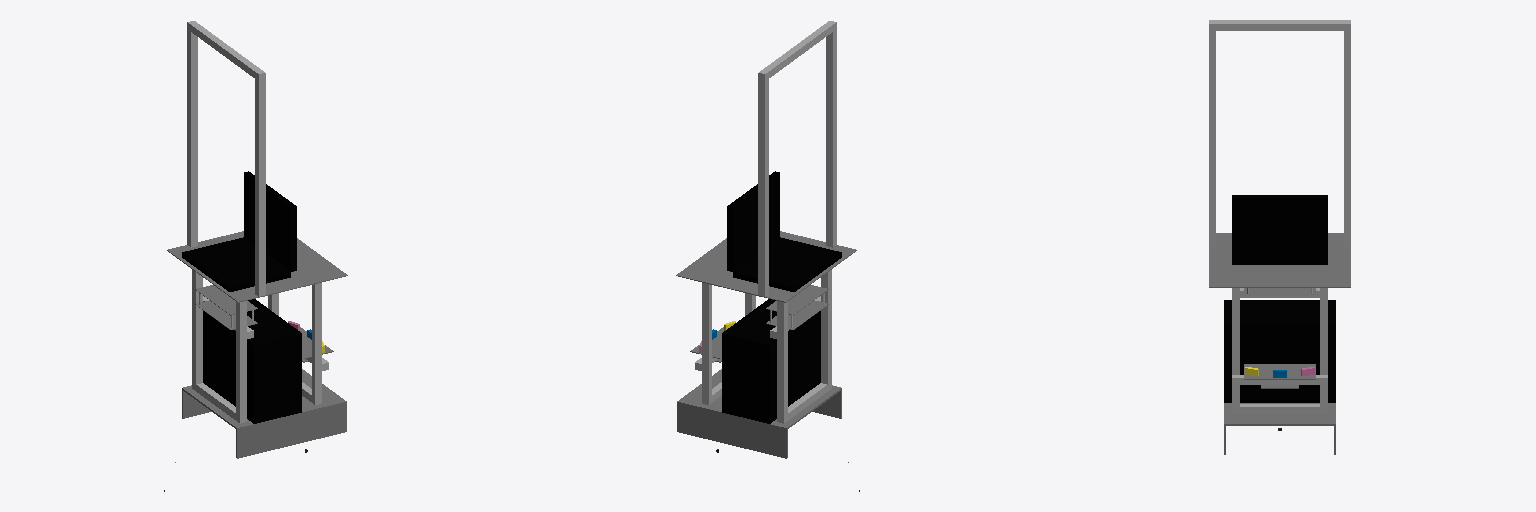
--- Render facts (derived) ---
Views: 3 orthographic renders of the robot side by side, from view 1: azimuth 30°, elevation 25°; view 2: azimuth 150°, elevation 25°; view 3: azimuth 270°, elevation 25°.
Robot: segbot — 67 links, 66 joints (4 revolute, 8 continuous, 54 fixed); root link base_footprint; default pose: every joint at zero.
Visible links, largest first — view 1: battery_box_link, chassis_right_plate_link, laptop_link, laptop_screen_link, laptop_base_plate_link, right_sensor_beam_link, left_sensor_beam_link, chassis_base_plate_link, back_right_vertical_beam_link, front_right_vertical_beam_link, back_left_vertical_beam_link, top_sensor_beam_link (+3 smaller); view 2: battery_box_link, chassis_left_plate_link, laptop_link, laptop_screen_link, laptop_base_plate_link, left_sensor_beam_link, right_sensor_beam_link, chassis_base_plate_link, back_left_vertical_beam_link, front_left_vertical_beam_link, back_right_vertical_beam_link, top_sensor_beam_link (+3 smaller); view 3: battery_box_link, laptop_screen_link, laptop_base_plate_link, chassis_base_plate_link, top_sensor_beam_link, left_sensor_beam_link, right_sensor_beam_link, front_base_beam_link, front_left_vertical_beam_link, front_right_vertical_beam_link, sensor_plate_link, hokuyo_sonar_sensor_beam_link (+1 smaller).
Link boxes in pixels (x1,y1,x2,y2): battery_box_link: [203, 299, 301, 423]; chassis_right_plate_link: [236, 403, 346, 458]; laptop_link: [182, 237, 290, 291]; laptop_screen_link: [244, 171, 296, 271]; laptop_base_plate_link: [167, 231, 347, 302]; right_sensor_beam_link: [255, 79, 265, 296]; left_sensor_beam_link: [187, 29, 197, 247]; chassis_base_plate_link: [182, 369, 346, 429]; back_right_vertical_beam_link: [236, 301, 246, 419]; front_right_vertical_beam_link: [312, 283, 321, 397]; back_left_vertical_beam_link: [192, 270, 202, 387]; top_sensor_beam_link: [187, 21, 265, 80]; battery_box_link: [722, 299, 820, 423]; chassis_left_plate_link: [677, 403, 787, 458]; laptop_link: [733, 237, 841, 291]; laptop_screen_link: [727, 171, 779, 271]; laptop_base_plate_link: [676, 231, 856, 302]; left_sensor_beam_link: [758, 79, 768, 296]; right_sensor_beam_link: [826, 29, 836, 247]; chassis_base_plate_link: [677, 369, 841, 429]; back_left_vertical_beam_link: [777, 301, 787, 419]; front_left_vertical_beam_link: [702, 283, 711, 397]; back_right_vertical_beam_link: [821, 270, 831, 387]; top_sensor_beam_link: [758, 21, 836, 80]; battery_box_link: [1224, 300, 1335, 402]; laptop_screen_link: [1232, 195, 1327, 261]; laptop_base_plate_link: [1209, 233, 1350, 287]; chassis_base_plate_link: [1224, 403, 1335, 425]; top_sensor_beam_link: [1209, 20, 1350, 30]; left_sensor_beam_link: [1344, 31, 1350, 246]; right_sensor_beam_link: [1209, 31, 1215, 246]; front_base_beam_link: [1232, 404, 1327, 413]; front_left_vertical_beam_link: [1320, 288, 1327, 406]; front_right_vertical_beam_link: [1232, 288, 1239, 406]; sensor_plate_link: [1244, 364, 1315, 379]; hokuyo_sonar_sensor_beam_link: [1232, 375, 1327, 384].
Size in the robot's own frame: 0.574 by 0.5403 by 1.59 metres.
5 mesh visuals loaded from 16 distinct referenced files (5 Collada DAE); not drawn: 12 (reference not matched to a file when rendering).

The robot description file, URDF, robot "segbot":
<?xml version="1.0" ?>
<!-- =================================================================================== -->
<!-- |    This document was autogenerated by xacro from segbot_v2.arm.urdf.xacro       | -->
<!-- |    EDITING THIS FILE BY HAND IS NOT RECOMMENDED                                 | -->
<!-- =================================================================================== -->
<robot name="segbot" xmlns:body="http://playerstage.sourceforge.net/gazebo/xmlschema/#body" xmlns:controller="http://playerstage.sourceforge.net/gazebo/xmlschema/#controller" xmlns:gazebo="http://playerstage.sourceforge.net/gazebo/xmlschema/#gz" xmlns:geom="http://playerstage.sourceforge.net/gazebo/xmlschema/#geom" xmlns:interface="http://playerstage.sourceforge.net/gazebo/xmlschema/#interface" xmlns:joint="http://playerstage.sourceforge.net/gazebo/xmlschema/#joint" xmlns:model="http://playerstage.sourceforge.net/gazebo/xmlschema/#model" xmlns:physics="http://playerstage.sourceforge.net/gazebo/xmlschema/#physics" xmlns:renderable="http://playerstage.sourceforge.net/gazebo/xmlschema/#renderable" xmlns:rendering="http://playerstage.sourceforge.net/gazebo/xmlschema/#rendering" xmlns:sensor="http://playerstage.sourceforge.net/gazebo/xmlschema/#sensor" xmlns:xacro="http://ros.org/wiki/xacro" xmlns:xi="http://www.w3.org/2001/XInclude">
  <!-- Included URDF Files -->
  <material name="light_grey">
    <color rgba="0.7 0.7 0.7 1"/>
  </material>
  <material name="dark_grey">
    <color rgba="0.5 0.5 0.5 1"/>
  </material>
  <material name="black">
    <color rgba="0 0 0 1"/>
  </material>
  <material name="almost_black">
    <color rgba="0.02 0.02 0.02 1"/>
  </material>
  <!-- Add the segbot base -->
  <link name="base_footprint">
    <visual>
      <origin rpy="0 0 0" xyz="0 0 0"/>
      <geometry>
        <box size="0.001 0.001 0.001"/>
      </geometry>
    </visual>
  </link>
  <joint name="base_footprint_joint" type="fixed">
    <origin rpy="0 0 0" xyz="0.0 0 0.2165"/>
    <parent link="base_footprint"/>
    <child link="base_link"/>
  </joint>
  <link name="base_link">
    <inertial>
      <mass value="30"/>
      <origin xyz="0 0 -0.2165"/>
      <inertia ixx="3000.0" ixy="0.0" ixz="0.0" iyy="3000.0" iyz="0.0" izz="30.0"/>
    </inertial>
    <visual>
      <origin rpy="0 0 0" xyz="0 0 0"/>
      <geometry>
        <mesh filename="package://segbot_description/meshes/rmp50-base-link.dae" scale="0.0254 0.0254 0.0254"/>
      </geometry>
    </visual>
    <collision>
      <origin rpy="0 0 0" xyz="0 0 -0.05"/>
      <geometry>
        <cylinder length="0.3330" radius="0.305"/>
      </geometry>
    </collision>
  </link>
  <joint name="laser_obstacle_joint" type="fixed">
    <origin rpy="0 0 0" xyz="0.0 0 0.3165"/>
    <parent link="base_link"/>
    <child link="laser_obstacle"/>
  </joint>
  <link name="laser_obstacle">
    <inertial>
      <mass value="0.1"/>
      <origin rpy="0 0 0" xyz="0 0 0"/>
      <inertia ixx="0.01" ixy="0.0" ixz="0.0" iyy="0.01" iyz="0.0" izz="0.01"/>
    </inertial>
    <visual>
      <origin rpy="0 0 0" xyz="0 0 0"/>
      <geometry>
        <box size="0.001 0.001 0.001"/>
      </geometry>
    </visual>
    <collision>
      <origin rpy="0 0 0" xyz="0 0 0"/>
      <geometry>
        <box size="0.25 0.6 0.4"/>
      </geometry>
    </collision>
  </link>
  <gazebo reference="base_link">
    <mu1 value="100.0"/>
    <mu2 value="100.0"/>
    <kp value="1000000.0"/>
    <kd value="1.0"/>
  </gazebo>
  <joint name="base_caster_support_joint" type="continuous">
    <origin rpy="0 0 0" xyz="-0.3292 0 -0.0485"/>
    <parent link="base_link"/>
    <child link="base_caster_support_link"/>
    <axis xyz="0 0 1"/>
    <anchor xyz="0.01 0 0"/>
    <limit effort="100" k_velocity="0" velocity="100"/>
    <joint_properties damping="0.0" friction="0.0"/>
  </joint>
  <transmission name="base_caster_support_trans" type="pr2_mechanism_model/SimpleTransmission">
    <actuator name="base_caster_support_motor"/>
    <joint name="base_caster_support_joint"/>
    <mechanicalReduction>1.0</mechanicalReduction>
  </transmission>
  <link name="base_caster_support_link">
    <inertial>
      <mass value="1"/>
      <origin xyz="0 0 0"/>
      <inertia ixx="0.00375" ixy="0.0" ixz="0.0" iyy="0.00375" iyz="0.0" izz="0.00375"/>
    </inertial>
    <visual>
      <origin rpy="0 0 0" xyz="0 0 0"/>
      <geometry>
        <mesh filename="package://segbot_description/meshes/rmp50-castor-link.dae" scale="0.0254 0.0254 0.0254"/>
      </geometry>
    </visual>
  </link>
  <gazebo reference="base_caster_support_link">
    <mu1 value="100.0"/>
    <mu2 value="100.0"/>
    <kp value="1000000.0"/>
    <kd value="1.0"/>
  </gazebo>
  <joint name="caster_wheel_joint" type="continuous">
    <origin rpy="0 0 0" xyz="-0.0397 0 -0.0918"/>
    <parent link="base_caster_support_link"/>
    <child link="caster_wheel_link"/>
    <axis xyz="0 1 0"/>
    <anchor xyz="0 0 0"/>
    <limit effort="100" k_velocity="0" velocity="100"/>
    <joint_properties damping="0.0" friction="0.0"/>
  </joint>
  <transmission name="caster_wheel_trans" type="pr2_mechanism_model/SimpleTransmission">
    <actuator name="caster_wheel_motor"/>
    <joint name="caster_wheel_joint"/>
    <mechanicalReduction>1.0</mechanicalReduction>
  </transmission>
  <link name="caster_wheel_link">
    <inertial>
      <mass value="2"/>
      <origin rpy="0 0 0" xyz="0 0 0"/>
      <inertia ixx="0.003" ixy="0.0" ixz="0.0" iyy="0.00581" iyz="0.0" izz="0.003"/>
    </inertial>
    <visual>
      <origin rpy="0 0 0" xyz="0 0 0"/>
      <geometry>
        <mesh filename="package://segbot_description/meshes/rmp50-castor-wheel.dae" scale="0.0254 0.0254 0.0254"/>
      </geometry>
    </visual>
  </link>
  <gazebo reference="caster_wheel_link">
    <mu1 value="10.0"/>
    <mu2 value="10.0"/>
    <kp value="1000000.0"/>
    <kd value="1.0"/>
  </gazebo>
  <joint name="base_link_left_wheel_joint" type="continuous">
    <origin rpy="0 0 0" xyz="0 0.2689 0.0239"/>
    <axis xyz="0 1 0"/>
    <anchor xyz="0 0 0"/>
    <limit effort="100" velocity="100"/>
    <joint_properties damping="0.0" friction="0.0"/>
    <parent link="base_link"/>
    <child link="base_link_left_wheel_link"/>
  </joint>
  <link name="base_link_left_wheel_link">
    <inertial>
      <mass value="5"/>
      <origin xyz=" 0 0 0 "/>
      <inertia ixx="0.076" ixy="0.0" ixz="0.0" iyy="0.144" iyz="0.0" izz="0.076"/>
    </inertial>
    <visual>
      <origin rpy="0 0 0" xyz="0 0 0"/>
      <geometry>
        <mesh filename="package://segbot_description/meshes/rmp50-left-wheel.dae" scale="0.0254 0.0254 0.0254"/>
      </geometry>
    </visual>
  </link>
  <gazebo reference="base_link_left_wheel_link">
    <mu1 value="10.0"/>
    <mu2 value="10.0"/>
    <kp value="1000000.0"/>
    <kd value="1.0"/>
  </gazebo>
  <transmission name="base_link_left_wheel_trans" type="pr2_mechanism_model/SimpleTransmission">
    <actuator name="base_link_left_wheel_motor"/>
    <joint name="base_link_left_wheel_joint"/>
    <mechanicalReduction>1.0</mechanicalReduction>
  </transmission>
  <joint name="base_link_right_wheel_joint" type="continuous">
    <origin rpy="0 0 0" xyz="0 -0.2689 0.0239"/>
    <axis xyz="0 1 0"/>
    <anchor xyz="0 0 0"/>
    <limit effort="100" velocity="100"/>
    <joint_properties damping="0.0" friction="0.0"/>
    <parent link="base_link"/>
    <child link="base_link_right_wheel_link"/>
  </joint>
  <link name="base_link_right_wheel_link">
    <inertial>
      <mass value="5"/>
      <origin xyz=" 0 0 0 "/>
      <inertia ixx="0.076" ixy="0.0" ixz="0.0" iyy="0.144" iyz="0.0" izz="0.076"/>
    </inertial>
    <visual>
      <origin rpy="0 0 0" xyz="0 0 0"/>
      <geometry>
        <mesh filename="package://segbot_description/meshes/rmp50-right-wheel.dae" scale="0.0254 0.0254 0.0254"/>
      </geometry>
    </visual>
  </link>
  <gazebo reference="base_link_right_wheel_link">
    <mu1 value="10.0"/>
    <mu2 value="10.0"/>
    <kp value="1000000.0"/>
    <kd value="1.0"/>
  </gazebo>
  <transmission name="base_link_right_wheel_trans" type="pr2_mechanism_model/SimpleTransmission">
    <actuator name="base_link_right_wheel_motor"/>
    <joint name="base_link_right_wheel_joint"/>
    <mechanicalReduction>1.0</mechanicalReduction>
  </transmission>
  <joint name="chassis_base_plate_joint" type="fixed">
    <origin xyz="0.0 0 0.10795"/>
    <parent link="base_link"/>
    <child link="chassis_base_plate_link"/>
  </joint>
  <link name="chassis_base_plate_link">
    <inertial>
      <mass value="0.1"/>
      <origin rpy="0 0 0" xyz="0 0 0"/>
      <inertia ixx="0.01" ixy="0.0" ixz="0.0" iyy="0.01" iyz="0.0" izz="0.01"/>
    </inertial>
    <visual>
      <origin rpy="0 0 0" xyz="0 0 0.003175"/>
      <geometry>
        <box size="0.4064 0.3556 0.00635"/>
      </geometry>
      <material name="dark_grey"/>
    </visual>
  </link>
  <gazebo reference="chassis_base_plate_link">
    <material>Gazebo/Grey</material>
    <mu1 value="100.0"/>
    <mu2 value="100.0"/>
    <kp value="1000000.0"/>
    <kd value="1.0"/>
  </gazebo>
  <joint name="chassis_left_plate_joint" type="fixed">
    <origin rpy="-1.5707963268 0 0" xyz="0 0.17145 -0.0508"/>
    <parent link="chassis_base_plate_link"/>
    <child link="chassis_left_plate_link"/>
  </joint>
  <link name="chassis_left_plate_link">
    <inertial>
      <mass value="0.1"/>
      <origin rpy="0 0 0" xyz="0 0 0"/>
      <inertia ixx="0.01" ixy="0.0" ixz="0.0" iyy="0.01" iyz="0.0" izz="0.01"/>
    </inertial>
    <visual>
      <origin rpy="0 0 0" xyz="0 0 0.003175"/>
      <geometry>
        <box size="0.4064 0.1016 0.00635"/>
      </geometry>
      <material name="dark_grey"/>
    </visual>
  </link>
  <gazebo reference="chassis_left_plate_link">
    <material>Gazebo/Grey</material>
    <mu1 value="100.0"/>
    <mu2 value="100.0"/>
    <kp value="1000000.0"/>
    <kd value="1.0"/>
  </gazebo>
  <joint name="chassis_right_plate_joint" type="fixed">
    <origin rpy="+1.5707963268 0 0" xyz="0 -0.17145 -0.0508"/>
    <parent link="chassis_base_plate_link"/>
    <child link="chassis_right_plate_link"/>
  </joint>
  <link name="chassis_right_plate_link">
    <inertial>
      <mass value="0.1"/>
      <origin rpy="0 0 0" xyz="0 0 0"/>
      <inertia ixx="0.01" ixy="0.0" ixz="0.0" iyy="0.01" iyz="0.0" izz="0.01"/>
    </inertial>
    <visual>
      <origin rpy="0 0 0" xyz="0 0 0.003175"/>
      <geometry>
        <box size="0.4064 0.1016 0.00635"/>
      </geometry>
      <material name="dark_grey"/>
    </visual>
  </link>
  <gazebo reference="chassis_right_plate_link">
    <material>Gazebo/Grey</material>
    <mu1 value="100.0"/>
    <mu2 value="100.0"/>
    <kp value="1000000.0"/>
    <kd value="1.0"/>
  </gazebo>
  <joint name="battery_box_joint" type="fixed">
    <origin rpy="0 0 0" xyz="-0.0508 0 0.00635"/>
    <parent link="chassis_base_plate_link"/>
    <child link="battery_box_link"/>
  </joint>
  <link name="battery_box_link">
    <inertial>
      <mass value="0.1"/>
      <origin rpy="0 0 0" xyz="0 0 0"/>
      <inertia ixx="0.01" ixy="0.0" ixz="0.0" iyy="0.01" iyz="0.0" izz="0.01"/>
    </inertial>
    <visual>
      <origin rpy="0 0 0" xyz="0 0 0.1397"/>
      <geometry>
        <box size="0.1778 0.3556 0.2794"/>
      </geometry>
      <material name="almost_black"/>
    </visual>
  </link>
  <gazebo reference="battery_box_link">
    <material>Gazebo/Black</material>
    <mu1 value="100.0"/>
    <mu2 value="100.0"/>
    <kp value="1000000.0"/>
    <kd value="1.0"/>
  </gazebo>
  <joint name="front_base_beam_joint" type="fixed">
    <origin rpy="1.5707963268 0 0" xyz="0.1143 0.1524 0.01905"/>
    <parent link="chassis_base_plate_link"/>
    <child link="front_base_beam_link"/>
  </joint>
  <link name="front_base_beam_link">
    <inertial>
      <mass value="0.1"/>
      <inertia ixx="0.01" ixy="0.0" ixz="0.0" iyy="0.01" iyz="0.0" izz="0.01"/>
    </inertial>
    <visual>
      <origin rpy="0 0 0" xyz="0 0 0.1524"/>
      <geometry>
        <box size="0.0254 0.0254 0.3048"/>
      </geometry>
      <material name="light_grey"/>
    </visual>
  </link>
  <gazebo reference="front_base_beam_link">
    <material>Gazebo/Grey</material>
    <mu1 value="100.0"/>
    <mu2 value="100.0"/>
    <kp value="1000000.0"/>
    <kd value="1.0"/>
  </gazebo>
  <joint name="back_base_beam_joint" type="fixed">
    <origin rpy="1.5707963268 0 0" xyz="-0.1651 0.1524 0.01905"/>
    <parent link="chassis_base_plate_link"/>
    <child link="back_base_beam_link"/>
  </joint>
  <link name="back_base_beam_link">
    <inertial>
      <mass value="0.1"/>
      <inertia ixx="0.01" ixy="0.0" ixz="0.0" iyy="0.01" iyz="0.0" izz="0.01"/>
    </inertial>
    <visual>
      <origin rpy="0 0 0" xyz="0 0 0.1524"/>
      <geometry>
        <box size="0.0254 0.0254 0.3048"/>
      </geometry>
      <material name="light_grey"/>
    </visual>
  </link>
  <gazebo reference="back_base_beam_link">
    <material>Gazebo/Grey</material>
    <mu1 value="100.0"/>
    <mu2 value="100.0"/>
    <kp value="1000000.0"/>
    <kd value="1.0"/>
  </gazebo>
  <joint name="back_left_vertical_beam_joint" type="fixed">
    <origin rpy="-1.5707963268 0 0" xyz="0 0 0.0127"/>
    <parent link="back_base_beam_link"/>
    <child link="back_left_vertical_beam_link"/>
  </joint>
  <link name="back_left_vertical_beam_link">
    <inertial>
      <mass value="0.1"/>
      <inertia ixx="0.01" ixy="0.0" ixz="0.0" iyy="0.01" iyz="0.0" izz="0.01"/>
    </inertial>
    <visual>
      <origin rpy="0 0 0" xyz="0 0 0.2286"/>
      <geometry>
        <box size="0.0254 0.0254 0.4572"/>
      </geometry>
      <material name="light_grey"/>
    </visual>
  </link>
  <gazebo reference="back_left_vertical_beam_link">
    <material>Gazebo/Grey</material>
    <mu1 value="100.0"/>
    <mu2 value="100.0"/>
    <kp value="1000000.0"/>
    <kd value="1.0"/>
  </gazebo>
  <joint name="front_left_vertical_beam_joint" type="fixed">
    <origin rpy="-1.5707963268 0 0" xyz="0 0 0.0127"/>
    <parent link="front_base_beam_link"/>
    <child link="front_left_vertical_beam_link"/>
  </joint>
  <link name="front_left_vertical_beam_link">
    <inertial>
      <mass value="0.1"/>
      <inertia ixx="0.01" ixy="0.0" ixz="0.0" iyy="0.01" iyz="0.0" izz="0.01"/>
    </inertial>
    <visual>
      <origin rpy="0 0 0" xyz="0 0 0.2286"/>
      <geometry>
        <box size="0.0254 0.0254 0.4572"/>
      </geometry>
      <material name="light_grey"/>
    </visual>
  </link>
  <gazebo reference="front_left_vertical_beam_link">
    <material>Gazebo/Grey</material>
    <mu1 value="100.0"/>
    <mu2 value="100.0"/>
    <kp value="1000000.0"/>
    <kd value="1.0"/>
  </gazebo>
  <joint name="back_right_vertical_beam_joint" type="fixed">
    <origin rpy="-1.5707963268 0 0" xyz="0 0 0.2921"/>
    <parent link="back_base_beam_link"/>
    <child link="back_right_vertical_beam_link"/>
  </joint>
  <link name="back_right_vertical_beam_link">
    <inertial>
      <mass value="0.1"/>
      <inertia ixx="0.01" ixy="0.0" ixz="0.0" iyy="0.01" iyz="0.0" izz="0.01"/>
    </inertial>
    <visual>
      <origin rpy="0 0 0" xyz="0 0 0.2286"/>
      <geometry>
        <box size="0.0254 0.0254 0.4572"/>
      </geometry>
      <material name="light_grey"/>
    </visual>
  </link>
  <gazebo reference="back_right_vertical_beam_link">
    <material>Gazebo/Grey</material>
    <mu1 value="100.0"/>
    <mu2 value="100.0"/>
    <kp value="1000000.0"/>
    <kd value="1.0"/>
  </gazebo>
  <joint name="front_right_vertical_beam_joint" type="fixed">
    <origin rpy="-1.5707963268 0 0" xyz="0 0 0.2921"/>
    <parent link="front_base_beam_link"/>
    <child link="front_right_vertical_beam_link"/>
  </joint>
  <link name="front_right_vertical_beam_link">
    <inertial>
      <mass value="0.1"/>
      <inertia ixx="0.01" ixy="0.0" ixz="0.0" iyy="0.01" iyz="0.0" izz="0.01"/>
    </inertial>
    <visual>
      <origin rpy="0 0 0" xyz="0 0 0.2286"/>
      <geometry>
        <box size="0.0254 0.0254 0.4572"/>
      </geometry>
      <material name="light_grey"/>
    </visual>
  </link>
  <gazebo reference="front_right_vertical_beam_link">
    <material>Gazebo/Grey</material>
    <mu1 value="100.0"/>
    <mu2 value="100.0"/>
    <kp value="1000000.0"/>
    <kd value="1.0"/>
  </gazebo>
  <joint name="left_laptop_support_beam_joint" type="fixed">
    <origin rpy="3.14159265359 -1.5707963268 0" xyz="-0.0127 0.0254 0.4445"/>
    <parent link="back_left_vertical_beam_link"/>
    <child link="left_laptop_support_beam_link"/>
  </joint>
  <link name="left_laptop_support_beam_link">
    <inertial>
      <mass value="0.1"/>
      <inertia ixx="0.01" ixy="0.0" ixz="0.0" iyy="0.01" iyz="0.0" izz="0.01"/>
    </inertial>
    <visual>
      <origin rpy="0 0 0" xyz="0 0 0.1524"/>
      <geometry>
        <box size="0.0254 0.0254 0.3048"/>
      </geometry>
      <material name="light_grey"/>
    </visual>
  </link>
  <gazebo reference="left_laptop_support_beam_link">
    <material>Gazebo/Grey</material>
    <mu1 value="100.0"/>
    <mu2 value="100.0"/>
    <kp value="1000000.0"/>
    <kd value="1.0"/>
  </gazebo>
  <joint name="right_laptop_support_beam_joint" type="fixed">
    <origin rpy="3.14159265359 -1.5707963268 0" xyz="-0.0127 -0.0254 0.4445"/>
    <parent link="back_right_vertical_beam_link"/>
    <child link="right_laptop_support_beam_link"/>
  </joint>
  <link name="right_laptop_support_beam_link">
    <inertial>
      <mass value="0.1"/>
      <inertia ixx="0.01" ixy="0.0" ixz="0.0" iyy="0.01" iyz="0.0" izz="0.01"/>
    </inertial>
    <visual>
      <origin rpy="0 0 0" xyz="0 0 0.1524"/>
      <geometry>
        <box size="0.0254 0.0254 0.3048"/>
      </geometry>
      <material name="light_grey"/>
    </visual>
  </link>
  <gazebo reference="right_laptop_support_beam_link">
    <material>Gazebo/Grey</material>
    <mu1 value="100.0"/>
    <mu2 value="100.0"/>
    <kp value="1000000.0"/>
    <kd value="1.0"/>
  </gazebo>
  <joint name="laptop_base_plate_joint" type="fixed">
    <origin rpy="3.14159265359 -1.5707963268 0" xyz="0.0127 0.1651 0.1524"/>
    <parent link="left_laptop_support_beam_link"/>
    <child link="laptop_base_plate_link"/>
  </joint>
  <link name="laptop_base_plate_link">
    <inertial>
      <mass value="0.1"/>
      <origin rpy="0 0 0" xyz="0 0 0"/>
      <inertia ixx="0.01" ixy="0.0" ixz="0.0" iyy="0.01" iyz="0.0" izz="0.01"/>
    </inertial>
    <visual>
      <origin rpy="0 0 0" xyz="0 0 0.0015875"/>
      <geometry>
        <box size="0.4064 0.4572 0.003175"/>
      </geometry>
      <material name="dark_grey"/>
    </visual>
  </link>
  <gazebo reference="laptop_base_plate_link">
    <material>Gazebo/Grey</material>
    <mu1 value="100.0"/>
    <mu2 value="100.0"/>
    <kp value="1000000.0"/>
    <kd value="1.0"/>
  </gazebo>
  <joint name="laptop_joint" type="fixed">
    <origin rpy="0 0 0" xyz="-0.0762 0 0.003175"/>
    <parent link="laptop_base_plate_link"/>
    <child link="laptop_link"/>
  </joint>
  <link name="laptop_link">
    <inertial>
      <mass value="0.1"/>
      <origin rpy="0 0 0" xyz="0 0 0"/>
      <inertia ixx="0.01" ixy="0.0" ixz="0.0" iyy="0.01" iyz="0.0" izz="0.01"/>
    </inertial>
    <visual>
      <origin rpy="0 0 0" xyz="0 0 0.009525"/>
      <geometry>
        <box size="0.2286 0.3048 0.01905"/>
      </geometry>
      <material name="almost_black"/>
    </visual>
  </link>
  <gazebo reference="laptop_link">
    <material>Gazebo/Grey</material>
    <mu1 value="100.0"/>
    <mu2 value="100.0"/>
    <kp value="1000000.0"/>
    <kd value="1.0"/>
  </gazebo>
  <joint name="laptop_screen_joint" type="fixed">
    <origin rpy="0 -1.5707963268 0" xyz="0.1143 0 0.01905"/>
    <parent link="laptop_link"/>
    <child link="laptop_screen_link"/>
  </joint>
  <link name="laptop_screen_link">
    <inertial>
      <mass value="0.1"/>
      <origin rpy="0 0 0" xyz="0 0 0"/>
      <inertia ixx="0.01" ixy="0.0" ixz="0.0" iyy="0.01" iyz="0.0" izz="0.01"/>
    </inertial>
    <visual>
      <origin rpy="0 0 -1.5707963268" xyz="0.1143 0 -0.009525"/>
      <geometry>
        <box size="0.3048 0.2286 0.01905"/>
      </geometry>
      <material name="almost_black"/>
    </visual>
  </link>
  <gazebo reference="laptop_screen_link">
    <visual>
      <plugin filename="libgazebo_ros_video.so" name="laptop_video_controller">
        <height>120</height>
        <width>160</width>
        <topicName>image</topicName>
      </plugin>
    </visual>
    <material>Gazebo/Grey</material>
    <mu1 value="100.0"/>
    <mu2 value="100.0"/>
    <kp value="1000000.0"/>
    <kd value="1.0"/>
  </gazebo>
  <!-- Add the forward facing kinect sensor for navigation -->
  <joint name="nav_kinect_sensor_beam_joint" type="fixed">
    <origin rpy="-1.5707963268 -1.5707963268 0" xyz="0.0254 -0.0127 0.2921"/>
    <parent link="back_right_vertical_beam_link"/>
    <child link="nav_kinect_sensor_beam_link"/>
  </joint>
  <link name="nav_kinect_sensor_beam_link">
    <inertial>
      <mass value="0.1"/>
      <inertia ixx="0.01" ixy="0.0" ixz="0.0" iyy="0.01" iyz="0.0" izz="0.01"/>
    </inertial>
    <visual>
      <origin rpy="0 0 0" xyz="0 0 0.1524"/>
      <geometry>
        <box size="0.0254 0.0254 0.3048"/>
      </geometry>
      <material name="light_grey"/>
    </visual>
  </link>
  <gazebo reference="nav_kinect_sensor_beam_link">
    <material>Gazebo/Grey</material>
    <mu1 value="100.0"/>
    <mu2 value="100.0"/>
    <kp value="1000000.0"/>
    <kd value="1.0"/>
  </gazebo>
  <joint name="nav_kinect_base_plate_joint" type="fixed">
    <origin rpy="1.5707963268 0 1.5707963268" xyz="0.0127 0 0.1524"/>
    <parent link="nav_kinect_sensor_beam_link"/>
    <child link="nav_kinect_base_plate_link"/>
  </joint>
  <link name="nav_kinect_base_plate_link">
    <inertial>
      <mass value="0.1"/>
      <origin rpy="0 0 0" xyz="0 0 0"/>
      <inertia ixx="0.01" ixy="0.0" ixz="0.0" iyy="0.01" iyz="0.0" izz="0.01"/>
    </inertial>
    <visual>
      <origin rpy="0 0 0" xyz="0 0 0.00079375"/>
      <geometry>
        <box size="0.1016 0.2286 0.0015875"/>
      </geometry>
      <material name="dark_grey"/>
    </visual>
  </link>
  <gazebo reference="nav_kinect_base_plate_link">
    <material>Gazebo/Grey</material>
    <mu1 value="100.0"/>
    <mu2 value="100.0"/>
    <kp value="1000000.0"/>
    <kd value="1.0"/>
  </gazebo>
  <joint name="nav_kinect_standoff_1_joint" type="fixed">
    <origin rpy="0 0 0" xyz="0.0381 -0.1016 0.0015875"/>
    <parent link="nav_kinect_base_plate_link"/>
    <child link="nav_kinect_standoff_1_link"/>
  </joint>
  <link name="nav_kinect_standoff_1_link">
    <inertial>
      <mass value="0.1"/>
      <origin rpy="0 0 0" xyz="0 0 0"/>
      <inertia ixx="0.01" ixy="0.0" ixz="0.0" iyy="0.01" iyz="0.0" izz="0.01"/>
    </inertial>
    <visual>
      <origin rpy="0 0 0" xyz="0 0 0.0254"/>
      <geometry>
        <cylinder length="0.0508" radius="0.003175"/>
      </geometry>
      <material name="light_grey"/>
    </visual>
  </link>
  <gazebo reference="nav_kinect_standoff_1_link">
    <material>Gazebo/Grey</material>
    <mu1 value="100.0"/>
    <mu2 value="100.0"/>
    <kp value="1000000.0"/>
    <kd value="1.0"/>
  </gazebo>
  <joint name="nav_kinect_standoff_2_joint" type="fixed">
    <origin rpy="0 0 0" xyz="0.0381 0.1016 0.0015875"/>
    <parent link="nav_kinect_base_plate_link"/>
    <child link="nav_kinect_standoff_2_link"/>
  </joint>
  <link name="nav_kinect_standoff_2_link">
    <inertial>
      <mass value="0.1"/>
      <origin rpy="0 0 0" xyz="0 0 0"/>
      <inertia ixx="0.01" ixy="0.0" ixz="0.0" iyy="0.01" iyz="0.0" izz="0.01"/>
    </inertial>
    <visual>
      <origin rpy="0 0 0" xyz="0 0 0.0254"/>
      <geometry>
        <cylinder length="0.0508" radius="0.003175"/>
      </geometry>
      <material name="light_grey"/>
    </visual>
  </link>
  <gazebo reference="nav_kinect_standoff_2_link">
    <material>Gazebo/Grey</material>
    <mu1 value="100.0"/>
    <mu2 value="100.0"/>
    <kp value="1000000.0"/>
    <kd value="1.0"/>
  </gazebo>
  <joint name="nav_kinect_standoff_3_joint" type="fixed">
    <origin rpy="0 0 0" xyz="-0.0381 0.1016 0.0015875"/>
    <parent link="nav_kinect_base_plate_link"/>
    <child link="nav_kinect_standoff_3_link"/>
  </joint>
  <link name="nav_kinect_standoff_3_link">
    <inertial>
      <mass value="0.1"/>
      <origin rpy="0 0 0" xyz="0 0 0"/>
      <inertia ixx="0.01" ixy="0.0" ixz="0.0" iyy="0.01" iyz="0.0" izz="0.01"/>
    </inertial>
    <visual>
      <origin rpy="0 0 0" xyz="0 0 0.0254"/>
      <geometry>
        <cylinder length="0.0508" radius="0.003175"/>
      </geometry>
      <material name="light_grey"/>
    </visual>
  </link>
  <gazebo reference="nav_kinect_standoff_3_link">
    <material>Gazebo/Grey</material>
    <mu1 value="100.0"/>
    <mu2 value="100.0"/>
    <kp value="1000000.0"/>
    <kd value="1.0"/>
  </gazebo>
  <joint name="nav_kinect_standoff_4_joint" type="fixed">
    <origin rpy="0 0 0" xyz="-0.0381 -0.1016 0.0015875"/>
    <parent link="nav_kinect_base_plate_link"/>
    <child link="nav_kinect_standoff_4_link"/>
  </joint>
  <link name="nav_kinect_standoff_4_link">
    <inertial>
      <mass value="0.1"/>
      <origin rpy="0 0 0" xyz="0 0 0"/>
      <inertia ixx="0.01" ixy="0.0" ixz="0.0" iyy="0.01" iyz="0.0" izz="0.01"/>
    </inertial>
    <visual>
      <origin rpy="0 0 0" xyz="0 0 0.0254"/>
      <geometry>
        <cylinder length="0.0508" radius="0.003175"/>
      </geometry>
      <material name="light_grey"/>
    </visual>
  </link>
  <gazebo reference="nav_kinect_standoff_4_link">
    <material>Gazebo/Grey</material>
    <mu1 value="100.0"/>
    <mu2 value="100.0"/>
    <kp value="1000000.0"/>
    <kd value="1.0"/>
  </gazebo>
  <joint name="nav_kinect_top_plate_joint" type="fixed">
    <origin rpy="0 0 0" xyz="-0.0381 0.1016 0.0508"/>
    <parent link="nav_kinect_standoff_1_link"/>
    <child link="nav_kinect_top_plate_link"/>
  </joint>
  <link name="nav_kinect_top_plate_link">
    <inertial>
      <mass value="0.1"/>
      <origin rpy="0 0 0" xyz="0 0 0"/>
      <inertia ixx="0.01" ixy="0.0" ixz="0.0" iyy="0.01" iyz="0.0" izz="0.01"/>
    </inertial>
    <visual>
      <origin rpy="0 0 0" xyz="0 0 0.00079375"/>
      <geometry>
        <box size="0.1016 0.2286 0.0015875"/>
      </geometry>
      <material name="dark_grey"/>
    </visual>
  </link>
  <gazebo reference="nav_kinect_top_plate_link">
    <material>Gazebo/Grey</material>
    <mu1 value="100.0"/>
    <mu2 value="100.0"/>
    <kp value="1000000.0"/>
    <kd value="1.0"/>
  </gazebo>
  <joint name="nav_kinect_joint" type="fixed">
    <origin rpy="0 0 0" xyz="0.031242 -0.0137160 0.022352"/>
    <parent link="nav_kinect_top_plate_link"/>
    <child link="nav_kinect_link"/>
  </joint>
  <link name="nav_kinect_link">
    <inertial>
      <mass value="0.1"/>
      <origin rpy="0 0 0" xyz="0 0 0"/>
      <inertia ixx="0.01" ixy="0.0" ixz="0.0" iyy="0.01" iyz="0.0" izz="0.01"/>
    </inertial>
    <visual>
      <origin rpy="0 0 0" xyz="0.0 0.012 0"/>
      <geometry>
        <mesh filename="package://pr2_description/meshes/sensors/kinect_v0/kinect.dae" scale="0.001 0.001 0.001"/>
      </geometry>
    </visual>
    <!-- <collision> -->
    <!--   <origin xyz="0.0 0.012 0" rpy="0 0 0"/> -->
    <!--   <geometry> -->
    <!--     <mesh filename="package://pr2_description/meshes/sensors/kinect_v0/kinect.dae" scale="0.001 0.001 0.001" /> -->
    <!--   </geometry> -->
    <!-- </collision> -->
  </link>
  <gazebo reference="nav_kinect_link">
    <sensor name="nav_kinect_link_sensor" type="depth">
      <always_on>true</always_on>
      <update_rate>20.0</update_rate>
      <camera>
        <horizontal_fov>0.994837673637</horizontal_fov>
        <image>
          <format>R8G8B8</format>
          <width>640</width>
          <height>480</height>
        </image>
        <clip>
          <near>0.01</near>
          <far>5</far>
        </clip>
      </camera>
      <plugin filename="libgazebo_ros_openni_kinect.so" name="nav_kinect_frame_controller">
        <alwaysOn>true</alwaysOn>
        <updateRate>20.0</updateRate>
        <cameraName>nav_kinect</cameraName>
        <imageTopicName>rgb/image_raw</imageTopicName>
        <cameraInfoTopicName>rgb/camera_info</cameraInfoTopicName>
        <depthImageTopicName>depth/image_raw</depthImageTopicName>
        <depthImageCameraInfoTopicName>depth/camera_info</depthImageCameraInfoTopicName>
        <pointCloudTopicName>depth/points</pointCloudTopicName>
        <frameName>nav_kinect_depth_optical_frame</frameName>
        <pointCloudCutoff>0.5</pointCloudCutoff>
        <distortionK1>0.00000001</distortionK1>
        <distortionK2>0.00000001</distortionK2>
        <distortionK3>0.00000001</distortionK3>
        <distortionT1>0.00000001</distortionT1>
        <distortionT2>0.00000001</distortionT2>
      </plugin>
    </sensor>
  </gazebo>
  <joint name="nav_kinect_link_joint1" type="fixed">
    <origin rpy="0 0 0" xyz="0 -0.02 0"/>
    <parent link="nav_kinect_link"/>
    <child link="nav_kinect_depth_frame"/>
  </joint>
  <link name="nav_kinect_depth_frame">
    <inertial>
      <mass value="0.001"/>
      <origin rpy="0 0 0" xyz="0 0 0"/>
      <inertia ixx="0.0001" ixy="0" ixz="0" iyy="0.000001" iyz="0" izz="0.0001"/>
    </inertial>
  </link>
  <joint name="nav_kinect_link_joint2" type="fixed">
    <origin rpy="0 0 0" xyz="0 -0.045 0"/>
    <parent link="nav_kinect_link"/>
    <child link="nav_kinect_rgb_frame"/>
  </joint>
  <link name="nav_kinect_rgb_frame">
    <inertial>
      <mass value="0.001"/>
      <origin rpy="0 0 0" xyz="0 0 0"/>
      <inertia ixx="0.0001" ixy="0" ixz="0" iyy="0.000001" iyz="0" izz="0.0001"/>
    </inertial>
  </link>
  <joint name="nav_kinect_link_joint3" type="fixed">
    <origin rpy="-1.5707963268 0 -1.5707963268" xyz="0 0 0"/>
    <parent link="nav_kinect_depth_frame"/>
    <child link="nav_kinect_depth_optical_frame"/>
  </joint>
  <link name="nav_kinect_depth_optical_frame">
    <inertial>
      <mass value="0.001"/>
      <origin rpy="0 0 0" xyz="0 0 0"/>
      <inertia ixx="0.0001" ixy="0" ixz="0" iyy="0.000001" iyz="0" izz="0.0001"/>
    </inertial>
  </link>
  <joint name="nav_kinect_link_joint4" type="fixed">
    <origin rpy="-1.5707963268 0 -1.5707963268" xyz="0 0 0"/>
    <parent link="nav_kinect_rgb_frame"/>
    <child link="nav_kinect_rgb_optical_frame"/>
  </joint>
  <link name="nav_kinect_rgb_optical_frame">
    <inertial>
      <mass value="0.001"/>
      <origin rpy="0 0 0" xyz="0 0 0"/>
      <inertia ixx="0.0001" ixy="0" ixz="0" iyy="0.000001" iyz="0" izz="0.0001"/>
    </inertial>
  </link>
  <!-- Add the shared beam between the hokuyo and the sensor plate -->
  <joint name="hokuyo_sonar_sensor_beam_joint" type="fixed">
    <origin rpy="1.5707963268 1.5707963268 0" xyz="0.0254 0.0127 0.1143"/>
    <parent link="front_left_vertical_beam_link"/>
    <child link="hokuyo_sonar_sensor_beam_link"/>
  </joint>
  <link name="hokuyo_sonar_sensor_beam_link">
    <inertial>
      <mass value="0.1"/>
      <inertia ixx="0.01" ixy="0.0" ixz="0.0" iyy="0.01" iyz="0.0" izz="0.01"/>
    </inertial>
    <visual>
      <origin rpy="0 0 0" xyz="0 0 0.1524"/>
      <geometry>
        <box size="0.0254 0.0254 0.3048"/>
      </geometry>
      <material name="light_grey"/>
    </visual>
  </link>
  <gazebo reference="hokuyo_sonar_sensor_beam_link">
    <material>Gazebo/Grey</material>
    <mu1 value="100.0"/>
    <mu2 value="100.0"/>
    <kp value="1000000.0"/>
    <kd value="1.0"/>
  </gazebo>
  <!-- Add the hokuyo mount without the beam -->
  <joint name="nav_hokuyo_plate_joint" type="fixed">
    <origin rpy="1.5707963268 0 1.5707963268" xyz="0.0127 0 0.1524"/>
    <parent link="hokuyo_sonar_sensor_beam_link"/>
    <child link="nav_hokuyo_plate_link"/>
  </joint>
  <link name="nav_hokuyo_plate_link">
    <inertial>
      <mass value="0.1"/>
      <origin rpy="0 0 0" xyz="0 0 0"/>
      <inertia ixx="0.01" ixy="0.0" ixz="0.0" iyy="0.01" iyz="0.0" izz="0.01"/>
    </inertial>
    <visual>
      <origin rpy="0 0 0" xyz="0 0 0.0015875"/>
      <geometry>
        <box size="0.06 0.12 0.003175"/>
      </geometry>
      <material name="dark_grey"/>
    </visual>
  </link>
  <gazebo reference="nav_hokuyo_plate_link">
    <material>Gazebo/Grey</material>
    <mu1 value="100.0"/>
    <mu2 value="100.0"/>
    <kp value="1000000.0"/>
    <kd value="1.0"/>
  </gazebo>
  <joint name="nav_hokuyo_joint" type="fixed">
    <axis xyz="0 1 0"/>
    <origin rpy="0 0 0" xyz="0 0 0.003175"/>
    <parent link="nav_hokuyo_plate_link"/>
    <child link="nav_hokuyo_link"/>
  </joint>
  <link name="nav_hokuyo_link">
    <inertial>
      <mass value="0.001"/>
      <origin rpy="0 0 0" xyz="0 0 0"/>
      <inertia ixx="0.0001" ixy="0" ixz="0" iyy="0.000001" iyz="0" izz="0.0001"/>
    </inertial>
    <visual>
      <origin rpy="0 0 0" xyz="0 0 0"/>
      <geometry>
        <mesh filename="package://segbot_description/meshes/hokuyo.dae" scale="0.0254 0.0254 0.0254"/>
      </geometry>
    </visual>
    <!-- ignore the collision element -->
  </link>
  <joint name="nav_hokuyo_laser_joint" type="fixed">
    <origin xyz="0 0 0.058"/>
    <parent link="nav_hokuyo_link"/>
    <child link="nav_hokuyo_laser_link"/>
  </joint>
  <link name="nav_hokuyo_laser_link" type="laser">
    <inertial>
      <mass value="0.001"/>
      <origin rpy="0 0 0" xyz="0 0 0"/>
      <inertia ixx="0.0001" ixy="0" ixz="0" iyy="0.000001" iyz="0" izz="0.0001"/>
    </inertial>
  </link>
  <gazebo reference="nav_hokuyo_laser_link">
    <sensor name="nav_hokuyo_laser" type="ray">
      <always_on>true</always_on>
      <update_rate>10</update_rate>
      <pose>0 0 0 0 0 0</pose>
      <visualize>false</visualize>
      <ray>
        <scan>
          <horizontal>
            <samples>640</samples>
            <resolution>1</resolution>
            <min_angle>-1.308996939</min_angle>
            <max_angle>1.308996939</max_angle>
          </horizontal>
        </scan>
        <range>
          <min>0.02</min>
          <max>20.0</max>
          <resolution>0.03</resolution>
        </range>
      </ray>
      <plugin filename="libgazebo_ros_laser.so" name="gazebo_ros_nav_hokuyo_laser_controller">
        <gaussianNoise>0.0</gaussianNoise>
        <alwaysOn>true</alwaysOn>
        <updateRate>10</updateRate>
        <topicName>scan</topicName>
        <frameName>nav_hokuyo_laser_link</frameName>
      </plugin>
    </sensor>
  </gazebo>
  <!-- Add the sensor plate mount -->
  <joint name="left_sensor_plate_standoff_joint" type="fixed">
    <origin rpy="-1.5707963268 0 1.5707963268" xyz="-0.0127 0 0.0889"/>
    <parent link="hokuyo_sonar_sensor_beam_link"/>
    <child link="left_sensor_plate_standoff_link"/>
  </joint>
  <link name="left_sensor_plate_standoff_link">
    <inertial>
      <mass value="0.1"/>
      <origin rpy="0 0 0" xyz="0 0 0"/>
      <inertia ixx="0.01" ixy="0.0" ixz="0.0" iyy="0.01" iyz="0.0" izz="0.01"/>
    </inertial>
    <visual>
      <origin rpy="0 0 0" xyz="0 0 0.00635"/>
      <geometry>
        <cylinder length="0.0127" radius="0.00635"/>
      </geometry>
      <material name="light_grey"/>
    </visual>
  </link>
  <gazebo reference="left_sensor_plate_standoff_link">
    <material>Gazebo/Grey</material>
    <mu1 value="100.0"/>
    <mu2 value="100.0"/>
    <kp value="1000000.0"/>
    <kd value="1.0"/>
  </gazebo>
  <joint name="right_sensor_plate_standoff_joint" type="fixed">
    <origin rpy="-1.5707963268 0 1.5707963268" xyz="-0.0127 0 0.2159"/>
    <parent link="hokuyo_sonar_sensor_beam_link"/>
    <child link="right_sensor_plate_standoff_link"/>
  </joint>
  <link name="right_sensor_plate_standoff_link">
    <inertial>
      <mass value="0.1"/>
      <origin rpy="0 0 0" xyz="0 0 0"/>
      <inertia ixx="0.01" ixy="0.0" ixz="0.0" iyy="0.01" iyz="0.0" izz="0.01"/>
    </inertial>
    <visual>
      <origin rpy="0 0 0" xyz="0 0 0.00635"/>
      <geometry>
        <cylinder length="0.0127" radius="0.00635"/>
      </geometry>
      <material name="light_grey"/>
    </visual>
  </link>
  <gazebo reference="right_sensor_plate_standoff_link">
    <material>Gazebo/Grey</material>
    <mu1 value="100.0"/>
    <mu2 value="100.0"/>
    <kp value="1000000.0"/>
    <kd value="1.0"/>
  </gazebo>
  <joint name="sensor_plate_joint" type="fixed">
    <origin rpy="0 0 0" xyz="-0.00635 -0.0635 0.0127"/>
    <parent link="left_sensor_plate_standoff_link"/>
    <child link="sensor_plate_link"/>
  </joint>
  <link name="sensor_plate_link">
    <inertial>
      <mass value="0.1"/>
      <origin rpy="0 0 0" xyz="0 0 0"/>
      <inertia ixx="0.01" ixy="0.0" ixz="0.0" iyy="0.01" iyz="0.0" izz="0.01"/>
    </inertial>
    <visual>
      <origin rpy="0 0 0" xyz="0 0 0.0015"/>
      <geometry>
        <box size="0.1143 0.2286 0.003"/>
      </geometry>
      <material name="dark_grey"/>
    </visual>
  </link>
  <gazebo reference="sensor_plate_link">
    <material>Gazebo/Grey</material>
    <mu1 value="100.0"/>
    <mu2 value="100.0"/>
    <kp value="1000000.0"/>
    <kd value="1.0"/>
  </gazebo>
  <joint name="sonar_center_joint" type="fixed">
    <origin xyz="-0.217932 0 0.015"/>
    <parent link="sensor_plate_link"/>
    <child link="sonar_center_link"/>
  </joint>
  <link name="sonar_center_link">
    <inertial>
      <mass value="0.1"/>
      <origin rpy="0 0 0" xyz="0 0 0"/>
      <inertia ixx="0.01" ixy="0.0" ixz="0.0" iyy="0.01" iyz="0.0" izz="0.01"/>
    </inertial>
    <visual>
      <origin rpy="0 0 0" xyz="0 0 0"/>
      <geometry>
        <box size="0.001 0.001 0.001"/>
      </geometry>
    </visual>
  </link>
  <joint name="sonar0_rotated_center_joint" type="fixed">
    <origin rpy="0 0 -0.349065850399" xyz="0 0 0"/>
    <parent link="sonar_center_link"/>
    <child link="sonar0_rotated_center_link"/>
  </joint>
  <link name="sonar0_rotated_center_link">
    <inertial>
      <mass value="0.1"/>
      <origin rpy="0 0 0" xyz="0 0 0"/>
      <inertia ixx="0.01" ixy="0.0" ixz="0.0" iyy="0.01" iyz="0.0" izz="0.01"/>
    </inertial>
    <visual>
      <origin rpy="0 0 0" xyz="0 0 0"/>
      <geometry>
        <box size="0.001 0.001 0.001"/>
      </geometry>
    </visual>
  </link>
  <joint name="sonar0_joint" type="fixed">
    <origin xyz="0.262382 0 0"/>
    <parent link="sonar0_rotated_center_link"/>
    <child link="sonar0_link"/>
  </joint>
  <link name="sonar0_link">
    <inertial>
      <mass value="0.1"/>
      <origin rpy="0 0 0" xyz="0 0 0"/>
      <inertia ixx="0.01" ixy="0.0" ixz="0.0" iyy="0.01" iyz="0.0" izz="0.01"/>
    </inertial>
    <visual>
      <origin rpy="0 0 0" xyz="0 0 0"/>
      <geometry>
        <box size="0.012 0.044 0.023"/>
      </geometry>
    </visual>
  </link>
  <joint name="sonar1_joint" type="fixed">
    <origin xyz="0.262382 0 0"/>
    <parent link="sonar_center_link"/>
    <child link="sonar1_link"/>
  </joint>
  <link name="sonar1_link">
    <inertial>
      <mass value="0.1"/>
      <origin rpy="0 0 0" xyz="0 0 0"/>
      <inertia ixx="0.01" ixy="0.0" ixz="0.0" iyy="0.01" iyz="0.0" izz="0.01"/>
    </inertial>
    <visual>
      <origin rpy="0 0 0" xyz="0 0 0"/>
      <geometry>
        <box size="0.012 0.044 0.023"/>
      </geometry>
    </visual>
  </link>
  <joint name="sonar2_rotated_center_joint" type="fixed">
    <origin rpy="0 0 0.349065850399" xyz="0 0 0"/>
    <parent link="sonar_center_link"/>
    <child link="sonar2_rotated_center_link"/>
  </joint>
  <link name="sonar2_rotated_center_link">
    <inertial>
      <mass value="0.1"/>
      <origin rpy="0 0 0" xyz="0 0 0"/>
      <inertia ixx="0.01" ixy="0.0" ixz="0.0" iyy="0.01" iyz="0.0" izz="0.01"/>
    </inertial>
    <visual>
      <origin rpy="0 0 0" xyz="0 0 0"/>
      <geometry>
        <box size="0.001 0.001 0.001"/>
      </geometry>
    </visual>
  </link>
  <joint name="sonar2_joint" type="fixed">
    <origin xyz="0.262382 0 0"/>
    <parent link="sonar2_rotated_center_link"/>
    <child link="sonar2_link"/>
  </joint>
  <link name="sonar2_link">
    <inertial>
      <mass value="0.1"/>
      <origin rpy="0 0 0" xyz="0 0 0"/>
      <inertia ixx="0.01" ixy="0.0" ixz="0.0" iyy="0.01" iyz="0.0" izz="0.01"/>
    </inertial>
    <visual>
      <origin rpy="0 0 0" xyz="0 0 0"/>
      <geometry>
        <box size="0.012 0.044 0.023"/>
      </geometry>
    </visual>
  </link>
  <!-- Add the left sensor beam -->
  <joint name="left_sensor_beam_joint" type="fixed">
    <origin rpy="0 0 0" xyz="-0.1143 0.2159 0.003175"/>
    <parent link="laptop_base_plate_link"/>
    <child link="left_sensor_beam_link"/>
  </joint>
  <link name="left_sensor_beam_link">
    <inertial>
      <mass value="0.1"/>
      <inertia ixx="0.01" ixy="0.0" ixz="0.0" iyy="0.01" iyz="0.0" izz="0.01"/>
    </inertial>
    <visual>
      <origin rpy="0 0 0" xyz="0 0 0.381"/>
      <geometry>
        <box size="0.0254 0.0254 0.762"/>
      </geometry>
      <material name="light_grey"/>
    </visual>
  </link>
  <gazebo reference="left_sensor_beam_link">
    <material>Gazebo/Grey</material>
    <mu1 value="100.0"/>
    <mu2 value="100.0"/>
    <kp value="1000000.0"/>
    <kd value="1.0"/>
  </gazebo>
  <!-- Add the right sensor beam -->
  <joint name="right_sensor_beam_joint" type="fixed">
    <origin rpy="0 0 0" xyz="-0.1143 -0.2159 0.003175"/>
    <parent link="laptop_base_plate_link"/>
    <child link="right_sensor_beam_link"/>
  </joint>
  <link name="right_sensor_beam_link">
    <inertial>
      <mass value="0.1"/>
      <inertia ixx="0.01" ixy="0.0" ixz="0.0" iyy="0.01" iyz="0.0" izz="0.01"/>
    </inertial>
    <visual>
      <origin rpy="0 0 0" xyz="0 0 0.381"/>
      <geometry>
        <box size="0.0254 0.0254 0.762"/>
      </geometry>
      <material name="light_grey"/>
    </visual>
  </link>
  <gazebo reference="right_sensor_beam_link">
    <material>Gazebo/Grey</material>
    <mu1 value="100.0"/>
    <mu2 value="100.0"/>
    <kp value="1000000.0"/>
    <kd value="1.0"/>
  </gazebo>
  <!-- Add the top sensor beam -->
  <joint name="top_sensor_beam_joint" type="fixed">
    <origin rpy="-1.5707963268 0 0" xyz="0 -0.0127 0.7747"/>
    <parent link="right_sensor_beam_link"/>
    <child link="top_sensor_beam_link"/>
  </joint>
  <link name="top_sensor_beam_link">
    <inertial>
      <mass value="0.1"/>
      <inertia ixx="0.01" ixy="0.0" ixz="0.0" iyy="0.01" iyz="0.0" izz="0.01"/>
    </inertial>
    <visual>
      <origin rpy="0 0 0" xyz="0 0 0.2286"/>
      <geometry>
        <box size="0.0254 0.0254 0.4572"/>
      </geometry>
      <material name="light_grey"/>
    </visual>
  </link>
  <gazebo reference="top_sensor_beam_link">
    <material>Gazebo/Grey</material>
    <mu1 value="100.0"/>
    <mu2 value="100.0"/>
    <kp value="1000000.0"/>
    <kd value="1.0"/>
  </gazebo>
  <!-- add the arm -->
  <!--this is needed as the mico_arm xacro file doesn't accept origin as argument -->
  <joint name="arm_fixed_joint" type="fixed">
    <origin rpy="0 0 0.0" xyz="0.1524 0 0.0381"/>
    <parent link="laptop_base_plate_link"/>
    <child link="arm_link"/>
  </joint>
  <link name="arm_link">
    <visual>
      <origin rpy="0 0 0" xyz="0 0 0"/>
      <geometry>
        <box size="0 0 0"/>
        <!--making it slightly bigger in x and z direction-->
      </geometry>
      <!--<material name="Black" /> -->
    </visual>
    <collision>
      <origin rpy="0 0 0" xyz="0 0 0"/>
      <geometry>
        <box size="0 0 0"/>
        <!--making it slightly bigger in x and z direction-->
      </geometry>
    </collision>
  </link>
  <link name="mico_link_base">
    <visual>
      <geometry>
        <mesh filename="package://jaco_model/meshes/mico_link_base.dae"/>
      </geometry>
      <material name="carbon_fiber">
        <color rgba="0.792156862745098 0.819607843137255 0.933333333333333 1"/>
      </material>
    </visual>
    <collision>
      <geometry>
        <mesh filename="package://jaco_model/meshes/mico_link_base.dae"/>
      </geometry>
    </collision>
  </link>
  <joint name="mico_joint_base" type="fixed">
    <parent link="arm_link"/>
    <child link="mico_link_base"/>
    <axis xyz="0 0 0"/>
    <limit effort="30" lower="0" upper="0" velocity="0.35"/>
    <origin rpy="0 0 0" xyz="0 0 0"/>
  </joint>
  <link name="mico_link_1">
    <visual>
      <geometry>
        <mesh filename="package://jaco_model/meshes/mico_link_1.dae"/>
      </geometry>
      <material name="carbon_fiber">
        <color rgba="0.792156862745098 0.819607843137255 0.933333333333333 1"/>
      </material>
    </visual>
    <collision>
      <geometry>
        <mesh filename="package://jaco_model/meshes/mico_link_1.dae"/>
      </geometry>
    </collision>
  </link>
  <joint name="mico_joint_1" type="continuous">
    <parent link="mico_link_base"/>
    <child link="mico_link_1"/>
    <axis xyz="0 0 -1"/>
    <limit effort="30" lower="-6.28318530718" upper="6.28318530718" velocity="0.35"/>
    <origin rpy="3.14159265359 0 3.14159265359" xyz="0 0 0.1535"/>
  </joint>
  <link name="mico_link_2">
    <visual>
      <geometry>
        <mesh filename="package://jaco_model/meshes/mico_link_2.dae"/>
      </geometry>
      <material name="carbon_fiber">
        <color rgba="0.792156862745098 0.819607843137255 0.933333333333333 1"/>
      </material>
    </visual>
    <collision>
      <geometry>
        <mesh filename="package://jaco_model/meshes/mico_link_2.dae"/>
      </geometry>
    </collision>
  </link>
  <joint name="mico_joint_2" type="revolute">
    <parent link="mico_link_1"/>
    <child link="mico_link_2"/>
    <axis xyz="0 0 1"/>
    <limit effort="30" lower="-3.59159265359" upper="0.45" velocity="0.35"/>
    <origin rpy="-1.57079632679 3.14159265359 0" xyz="0 0 -0.1185"/>
  </joint>
  <link name="mico_link_3">
    <visual>
      <geometry>
        <mesh filename="package://jaco_model/meshes/mico_link_3.dae"/>
      </geometry>
      <material name="carbon_fiber">
        <color rgba="0.792156862745098 0.819607843137255 0.933333333333333 1"/>
      </material>
    </visual>
    <collision>
      <geometry>
        <mesh filename="package://jaco_model/meshes/mico_link_3.dae"/>
      </geometry>
    </collision>
  </link>
  <joint name="mico_joint_3" type="revolute">
    <parent link="mico_link_2"/>
    <child link="mico_link_3"/>
    <axis xyz="0 0 -1"/>
    <limit effort="30" lower="-3.92699081699" upper="0.785398163397" velocity="0.35"/>
    <origin rpy="3.14159265359 0 1.57079632679" xyz="0.29 0 0"/>
  </joint>
  <link name="mico_link_4">
    <visual>
      <geometry>
        <mesh filename="package://jaco_model/meshes/mico_link_4.dae"/>
      </geometry>
      <material name="carbon_fiber">
        <color rgba="0.792156862745098 0.819607843137255 0.933333333333333 1"/>
      </material>
    </visual>
    <collision>
      <geometry>
        <mesh filename="package://jaco_model/meshes/mico_link_4.dae"/>
      </geometry>
    </collision>
  </link>
  <joint name="mico_joint_4" type="continuous">
    <parent link="mico_link_3"/>
    <child link="mico_link_4"/>
    <axis xyz="0 0 -1"/>
    <limit effort="30" lower="-6.28318530718" upper="6.28318530718" velocity="0.35"/>
    <origin rpy="3.14159265359 1.57079632679 0" xyz="0.123 0 -0.00845"/>
  </joint>
  <link name="mico_link_5">
    <visual>
      <geometry>
        <mesh filename="package://jaco_model/meshes/mico_link_5.dae"/>
      </geometry>
      <material name="carbon_fiber">
        <color rgba="0.792156862745098 0.819607843137255 0.933333333333333 1"/>
      </material>
    </visual>
    <collision>
      <geometry>
        <mesh filename="package://jaco_model/meshes/mico_link_5.dae"/>
      </geometry>
    </collision>
  </link>
  <joint name="mico_joint_5" type="continuous">
    <parent link="mico_link_4"/>
    <child link="mico_link_5"/>
    <axis xyz="0 0 -1"/>
    <limit effort="30" lower="-6.28318530718" upper="6.28318530718" velocity="0.35"/>
    <origin rpy="0 -1.0471975512 0" xyz="0.03700 0 -0.06408"/>
  </joint>
  <link name="mico_link_hand">
    <visual>
      <geometry>
        <mesh filename="package://jaco_model/meshes/mico_link_hand.dae"/>
      </geometry>
      <material name="carbon_fiber">
        <color rgba="0.792156862745098 0.819607843137255 0.933333333333333 1"/>
      </material>
    </visual>
    <collision>
      <geometry>
        <mesh filename="package://jaco_model/meshes/mico_link_hand.dae"/>
      </geometry>
    </collision>
  </link>
  <joint name="mico_joint_6" type="continuous">
    <parent link="mico_link_5"/>
    <child link="mico_link_hand"/>
    <axis xyz="0 0 -1"/>
    <limit effort="30" lower="-6.28318530718" upper="6.28318530718" velocity="0.35"/>
    <origin rpy="-1.0471975512 0 1.57079632679" xyz="0.03700 0 -0.06408"/>
  </joint>
  <joint name="mico_link_base_to_api_origin" type="fixed">
    <parent link="mico_link_base"/>
    <child link="mico_api_origin"/>
    <origin rpy="0 0 0" xyz="0 0 0.028"/>
  </joint>
  <link name="mico_api_origin">
    <!--
         <visual>
           <geometry>
             <box xyz="0 0 0" size="0.1 0.1 0.1"/>
           </geometry>
         </visual>
         <collision>
           <geometry>
             <box xyz="0 0 0" size="0.1 0.1 0.1"/>
           </geometry>
         </collision>
         -->
  </link>
  <joint name="mico_link_hand_to_end_effector" type="fixed">
    <parent link="mico_link_hand"/>
    <child link="mico_end_effector"/>
    <origin rpy="0 3.14159265359 0" xyz="0 0 -0.16"/>
  </joint>
  <link name="mico_end_effector"/>
  <link name="mico_link_finger_1">
    <visual>
      <geometry>
        <mesh filename="package://jaco_model/meshes/mico_link_finger_1.dae"/>
      </geometry>
      <material name="carbon_fiber">
        <color rgba="0.792156862745098 0.819607843137255 0.933333333333333 1"/>
      </material>
    </visual>
    <collision>
      <geometry>
        <mesh filename="package://jaco_model/meshes/mico_link_finger_1.dae"/>
      </geometry>
    </collision>
  </link>
  <joint name="mico_joint_finger_1" type="revolute">
    <parent link="mico_link_hand"/>
    <child link="mico_link_finger_1"/>
    <axis xyz="0 0 1"/>
    <origin rpy="-1.57079632679 1.117 3.14159265359" xyz="-0.03978 0 -0.10071"/>
    <limit effort="30" lower="0" upper="0.698131700798" velocity="5"/>
  </joint>
  <link name="mico_link_finger_2">
    <visual>
      <geometry>
        <mesh filename="package://jaco_model/meshes/mico_link_finger_2.dae"/>
      </geometry>
      <material name="carbon_fiber">
        <color rgba="0.792156862745098 0.819607843137255 0.933333333333333 1"/>
      </material>
    </visual>
    <collision>
      <geometry>
        <mesh filename="package://jaco_model/meshes/mico_link_finger_2.dae"/>
      </geometry>
    </collision>
  </link>
  <joint name="mico_joint_finger_2" type="revolute">
    <parent link="mico_link_hand"/>
    <child link="mico_link_finger_2"/>
    <axis xyz="0 0 1"/>
    <origin rpy="1.57079632679 2.02459265359 3.14159265359" xyz="0.03569 0 -0.10071"/>
    <limit effort="30" lower="0" upper="0.698131700798" velocity="5"/>
  </joint>
  <!-- add the xtion -->
  <joint name="xtion_camera_joint" type="fixed">
    <origin rpy="0 0.74 0" xyz="-0.245 +0.05 0.75"/>
    <parent link="arm_link"/>
    <child link="xtion_camera_link"/>
  </joint>
  <link name="xtion_camera_link">
    <inertial>
      <mass value="0.1"/>
      <origin rpy="0 0 0" xyz="0 0 0"/>
      <inertia ixx="0.01" ixy="0.0" ixz="0.0" iyy="0.01" iyz="0.0" izz="0.01"/>
    </inertial>
    <visual>
      <origin rpy="0 0 0" xyz="0.0 0.012 0"/>
      <geometry>
        <mesh filename="package://pr2_description/meshes/sensors/kinect_v0/kinect.dae" scale="0.001 0.001 0.001"/>
      </geometry>
    </visual>
    <!-- <collision> -->
    <!--   <origin xyz="0.0 0.012 0" rpy="0 0 0"/> -->
    <!--   <geometry> -->
    <!--     <mesh filename="package://pr2_description/meshes/sensors/kinect_v0/kinect.dae" scale="0.001 0.001 0.001" /> -->
    <!--   </geometry> -->
    <!-- </collision> -->
  </link>
  <gazebo reference="xtion_camera_link">
    <sensor name="xtion_camera_link_sensor" type="depth">
      <always_on>true</always_on>
      <update_rate>20.0</update_rate>
      <camera>
        <horizontal_fov>0.994837673637</horizontal_fov>
        <image>
          <format>R8G8B8</format>
          <width>640</width>
          <height>480</height>
        </image>
        <clip>
          <near>0.01</near>
          <far>5</far>
        </clip>
      </camera>
      <plugin filename="libgazebo_ros_openni_kinect.so" name="xtion_camera_frame_controller">
        <alwaysOn>true</alwaysOn>
        <updateRate>20.0</updateRate>
        <cameraName>xtion_camera</cameraName>
        <imageTopicName>rgb/image_raw</imageTopicName>
        <cameraInfoTopicName>rgb/camera_info</cameraInfoTopicName>
        <depthImageTopicName>depth/image_raw</depthImageTopicName>
        <depthImageCameraInfoTopicName>depth/camera_info</depthImageCameraInfoTopicName>
        <pointCloudTopicName>depth/points</pointCloudTopicName>
        <frameName>xtion_camera_depth_optical_frame</frameName>
        <pointCloudCutoff>0.5</pointCloudCutoff>
        <distortionK1>0.00000001</distortionK1>
        <distortionK2>0.00000001</distortionK2>
        <distortionK3>0.00000001</distortionK3>
        <distortionT1>0.00000001</distortionT1>
        <distortionT2>0.00000001</distortionT2>
      </plugin>
    </sensor>
  </gazebo>
  <joint name="xtion_camera_link_joint1" type="fixed">
    <origin rpy="0 0 0" xyz="0 -0.02 0"/>
    <parent link="xtion_camera_link"/>
    <child link="xtion_camera_depth_frame"/>
  </joint>
  <link name="xtion_camera_depth_frame">
    <inertial>
      <mass value="0.001"/>
      <origin rpy="0 0 0" xyz="0 0 0"/>
      <inertia ixx="0.0001" ixy="0" ixz="0" iyy="0.000001" iyz="0" izz="0.0001"/>
    </inertial>
  </link>
  <joint name="xtion_camera_link_joint2" type="fixed">
    <origin rpy="0 0 0" xyz="0 -0.045 0"/>
    <parent link="xtion_camera_link"/>
    <child link="xtion_camera_rgb_frame"/>
  </joint>
  <link name="xtion_camera_rgb_frame">
    <inertial>
      <mass value="0.001"/>
      <origin rpy="0 0 0" xyz="0 0 0"/>
      <inertia ixx="0.0001" ixy="0" ixz="0" iyy="0.000001" iyz="0" izz="0.0001"/>
    </inertial>
  </link>
  <joint name="xtion_camera_link_joint3" type="fixed">
    <origin rpy="-1.5707963268 0 -1.5707963268" xyz="0 0 0"/>
    <parent link="xtion_camera_depth_frame"/>
    <child link="xtion_camera_depth_optical_frame"/>
  </joint>
  <link name="xtion_camera_depth_optical_frame">
    <inertial>
      <mass value="0.001"/>
      <origin rpy="0 0 0" xyz="0 0 0"/>
      <inertia ixx="0.0001" ixy="0" ixz="0" iyy="0.000001" iyz="0" izz="0.0001"/>
    </inertial>
  </link>
  <joint name="xtion_camera_link_joint4" type="fixed">
    <origin rpy="-1.5707963268 0 -1.5707963268" xyz="0 0 0"/>
    <parent link="xtion_camera_rgb_frame"/>
    <child link="xtion_camera_rgb_optical_frame"/>
  </joint>
  <link name="xtion_camera_rgb_optical_frame">
    <inertial>
      <mass value="0.001"/>
      <origin rpy="0 0 0" xyz="0 0 0"/>
      <inertia ixx="0.0001" ixy="0" ixz="0" iyy="0.000001" iyz="0" izz="0.0001"/>
    </inertial>
  </link>
  <gazebo>
    <plugin filename="libgazebo_ros_planar_move.so" name="object_controller">
      <commandTopic>cmd_vel</commandTopic>
      <odometryTopic>odom</odometryTopic>
      <odometryFrame>odom</odometryFrame>
      <robotBaseFrame>base_footprint</robotBaseFrame>
      <odometryRate>100</odometryRate>
    </plugin>
  </gazebo>
</robot>
